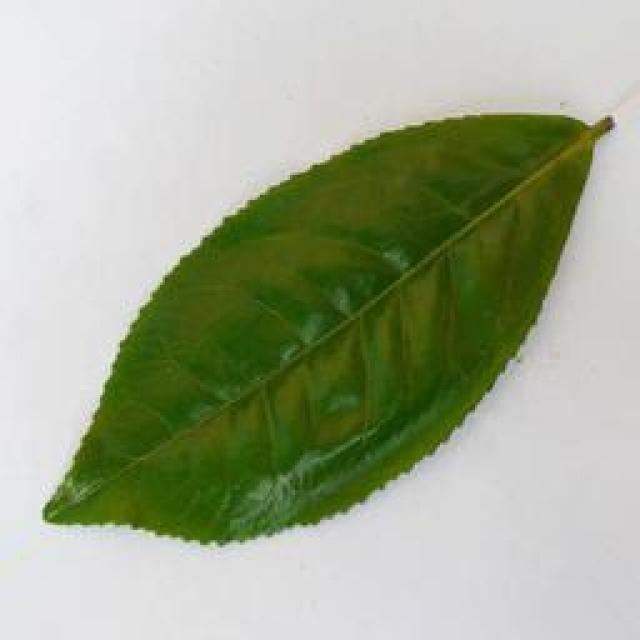Healthy: (45, 101, 640, 537)
